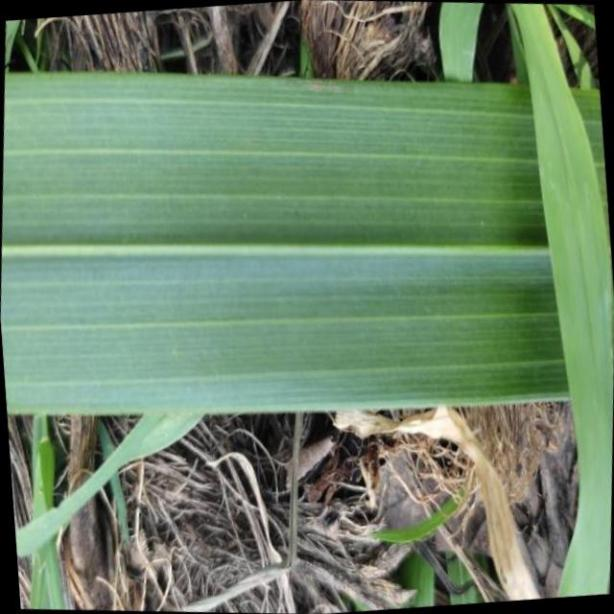Healthy: (0, 70, 614, 418)
